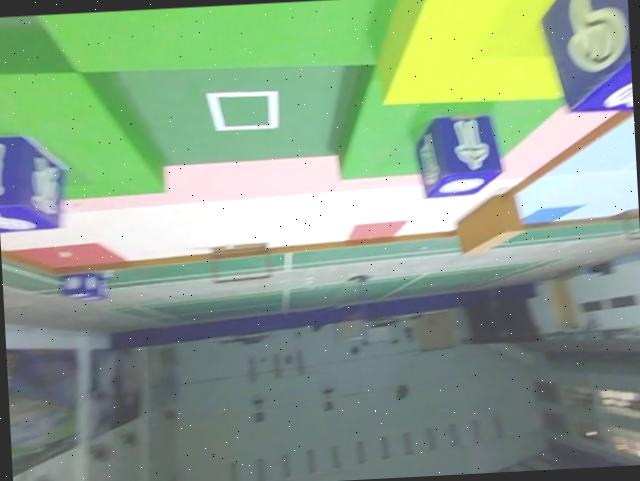R2 Fake Blue: (533, 0, 634, 121), (413, 110, 504, 197), (0, 135, 65, 238)
